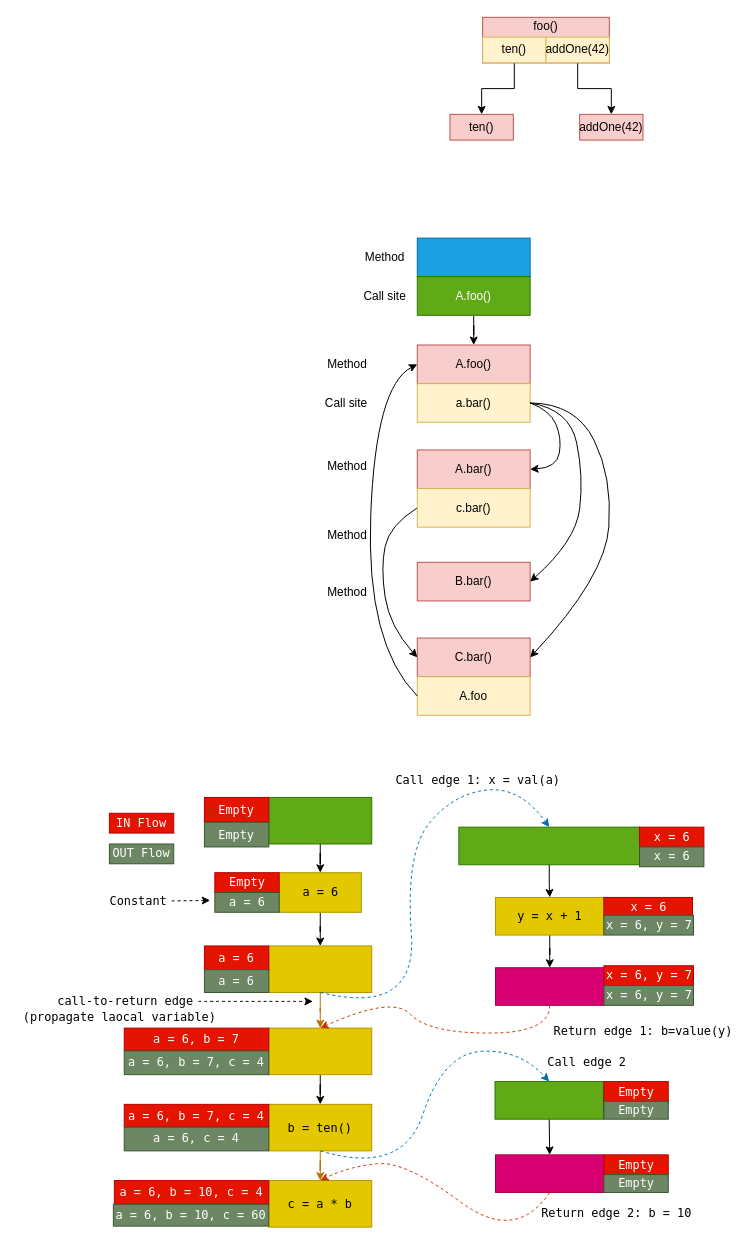
Image size: 753x1244. Some labels were removed from this diagram. Each missing label, with the centre of its shape:
"A.main()" goes at point 473,257.
"b = addOne(a)" goes at point 320,968.
"c = b - 3" goes at point 320,1051.
"Enter AddOne(int x)" goes at point 549,845.
"Enter main()" goes at point 320,820.
"Enter ten()" goes at point 548,1100.
"return 10" goes at point 549,1173.
"return y" goes at point 549,986.
